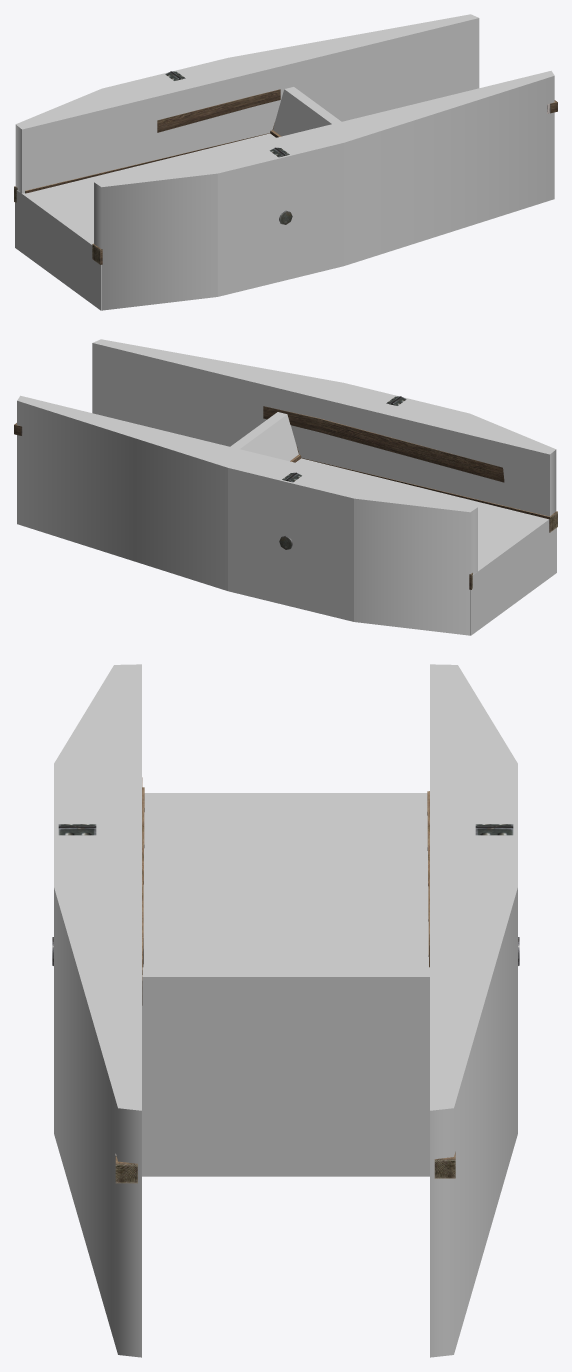
The model's file is Scene_Build_XuanWuShan_TuiChe_1.FBX.
The picture shows the model from 3 angles, top to bottom: view 1: azimuth 30°, elevation 25°; view 2: azimuth 150°, elevation 25°; view 3: azimuth 270°, elevation 25°; orthographic projection. The views are drawn at different scales.
Visible parts, largest first — view 1: Scene_Build_XuanWuShan_TuiChe_1_Xzm, Scene_Build_XuanWuShan_TuiChe_1; view 2: Scene_Build_XuanWuShan_TuiChe_1_Xzm, Scene_Build_XuanWuShan_TuiChe_1; view 3: Scene_Build_XuanWuShan_TuiChe_1_Xzm, Scene_Build_XuanWuShan_TuiChe_1.
Boxes of the visible parts, x1,y1,x2,y2 form: Scene_Build_XuanWuShan_TuiChe_1_Xzm: [15, 14, 554, 310]; Scene_Build_XuanWuShan_TuiChe_1: [14, 71, 557, 264]; Scene_Build_XuanWuShan_TuiChe_1_Xzm: [17, 339, 556, 635]; Scene_Build_XuanWuShan_TuiChe_1: [14, 396, 557, 589]; Scene_Build_XuanWuShan_TuiChe_1_Xzm: [54, 664, 517, 1357]; Scene_Build_XuanWuShan_TuiChe_1: [52, 777, 519, 1183].
Size of the model in its own units: 413 by 108 by 183.
